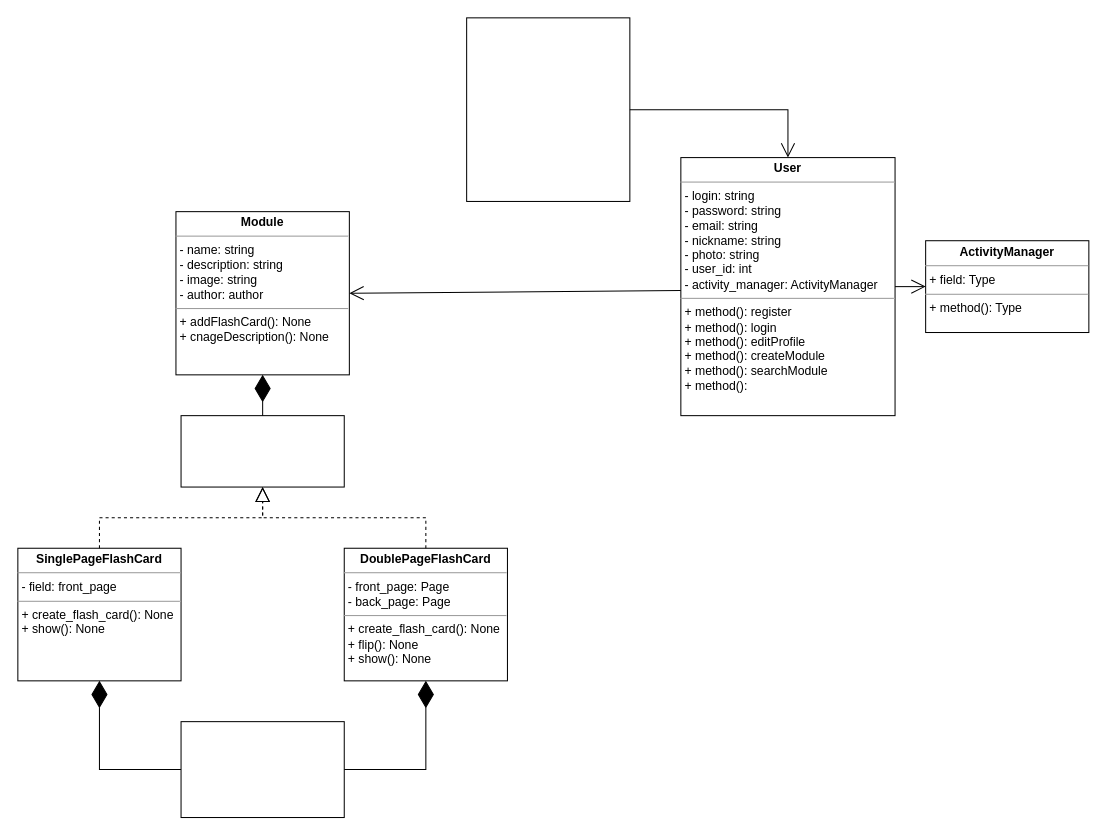
The diagram is 1107 pixels wide and 835 high, and some of its shapes have lost their labels. The shapes that lost their labels are listed below. From the top down, each one's box as (x1, y1, x2, y2) in pixels, then its label:
(466, 17, 630, 201): App + field: Type + method(): manage_users
(180, 415, 344, 487): IFlashCard + method(): createFlashCard + method(): show
(180, 721, 344, 818): Page - field: text - field: image
